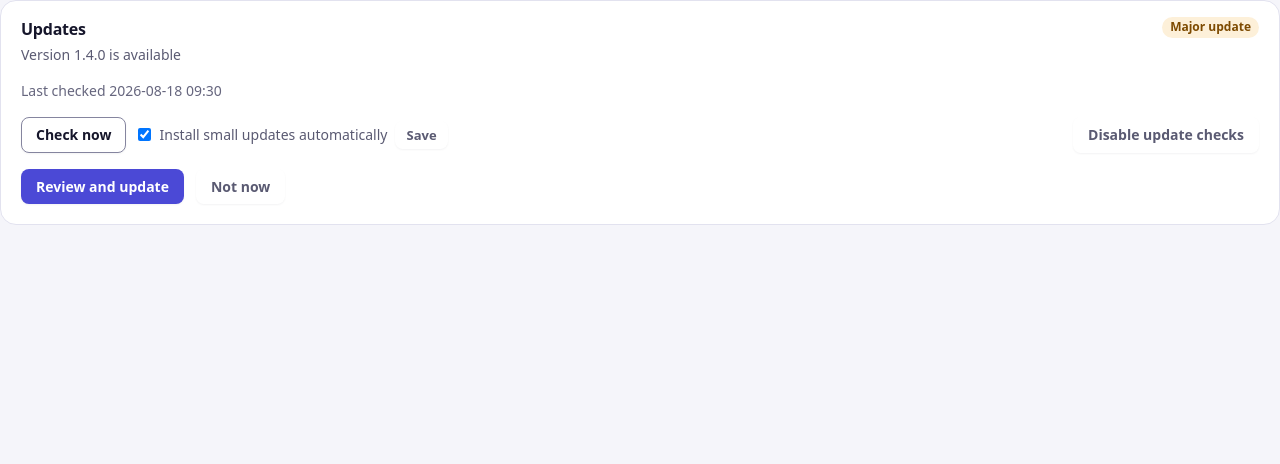
Scenario: MUST-9.6 / review fix (MED): the review fetch has an honest pending state › shows a pending line, not the failure sentence, while the request is in flight; the failure sentence only once it settles without a release
Click the button "Review and update": point(102, 186) [21, 168, 184, 204]
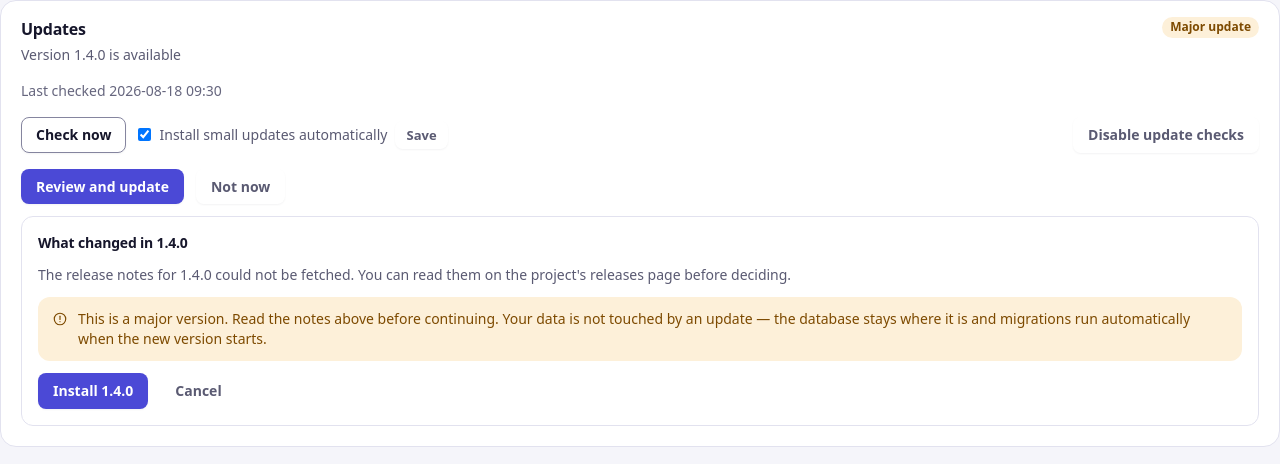
Check: the text "Fetching release notes…" is shown, box [38, 265, 791, 284]
Check: the text "could not be fetched" is shown, box [212, 265, 791, 284]
Check: the button "Install 1.4.0" is shown, box [38, 373, 148, 408]
